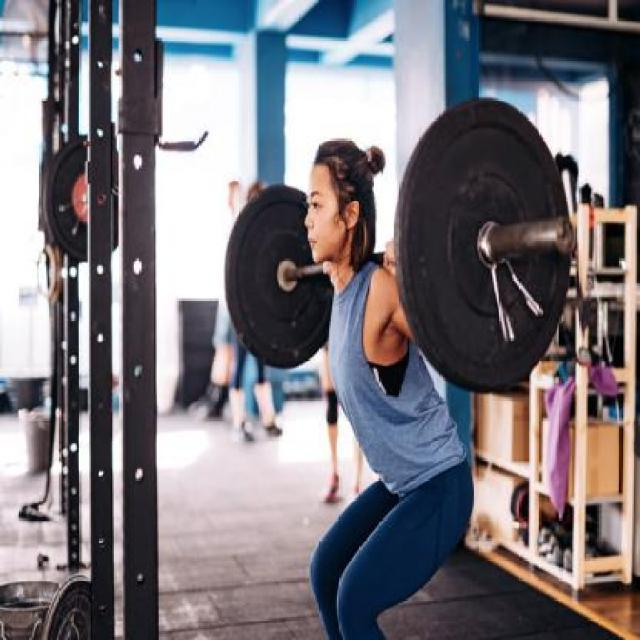Barbell: (552, 213, 578, 258)
